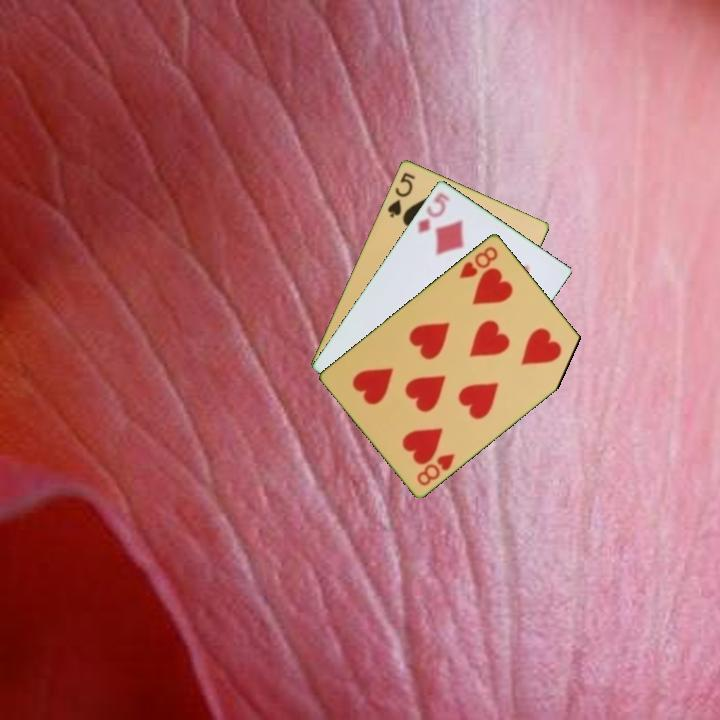5d: (414, 189, 453, 236)
5s: (384, 168, 418, 220)
8h: (456, 242, 501, 281), (413, 449, 457, 488)
